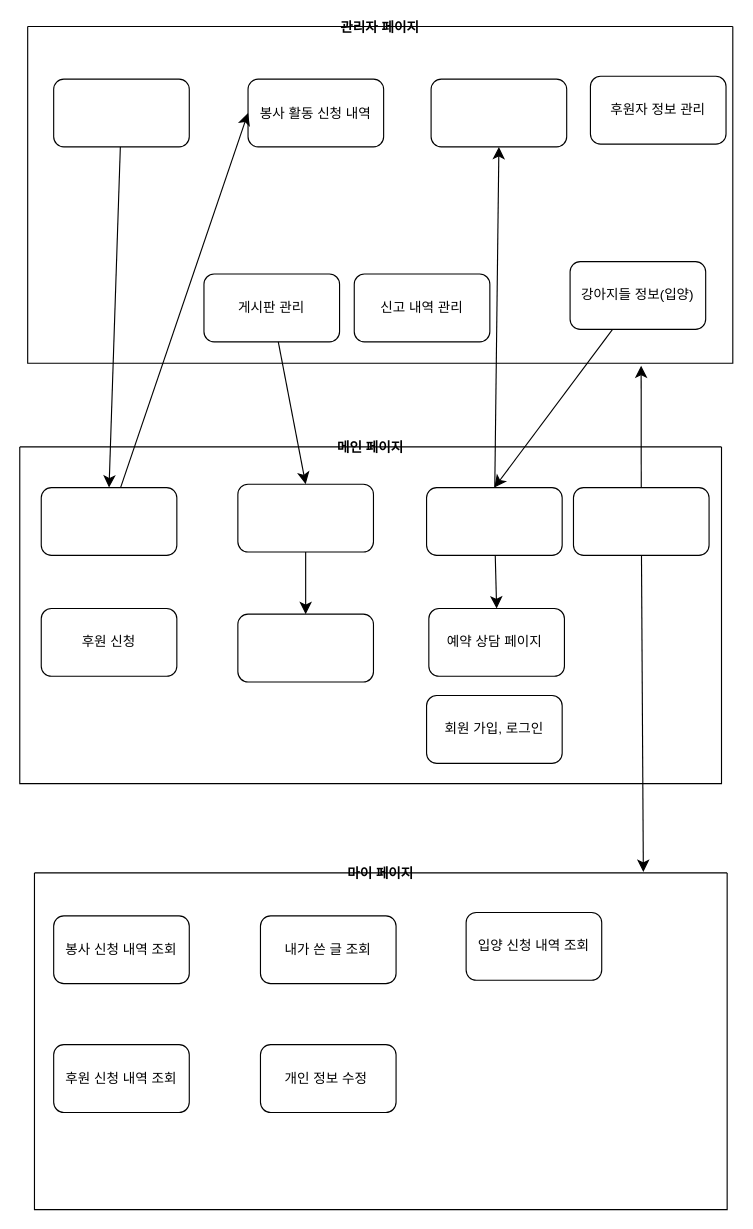
The diagram is 753 pixels wide and 1229 high, and some of its shapes have lost their labels. Here are the shapes that lost their labels. From the top down, the centre of each, then its label:
At [121,112]: "공고 관리".
At [498,112]: "입양 상담 신청 내역".
At [108,520]: "봉사 신청".
At [305,517]: "게시판".
At [493,520]: "입양".
At [640,520]: "마이페이지 (관리자 페이지)".
At [305,647]: "댓글 작성".
